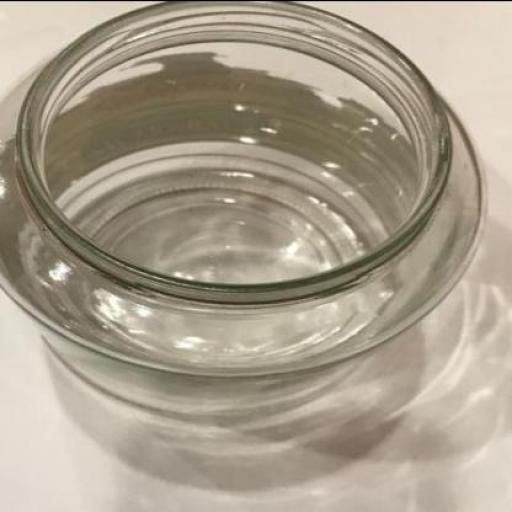glass: (0, 1, 484, 415)
